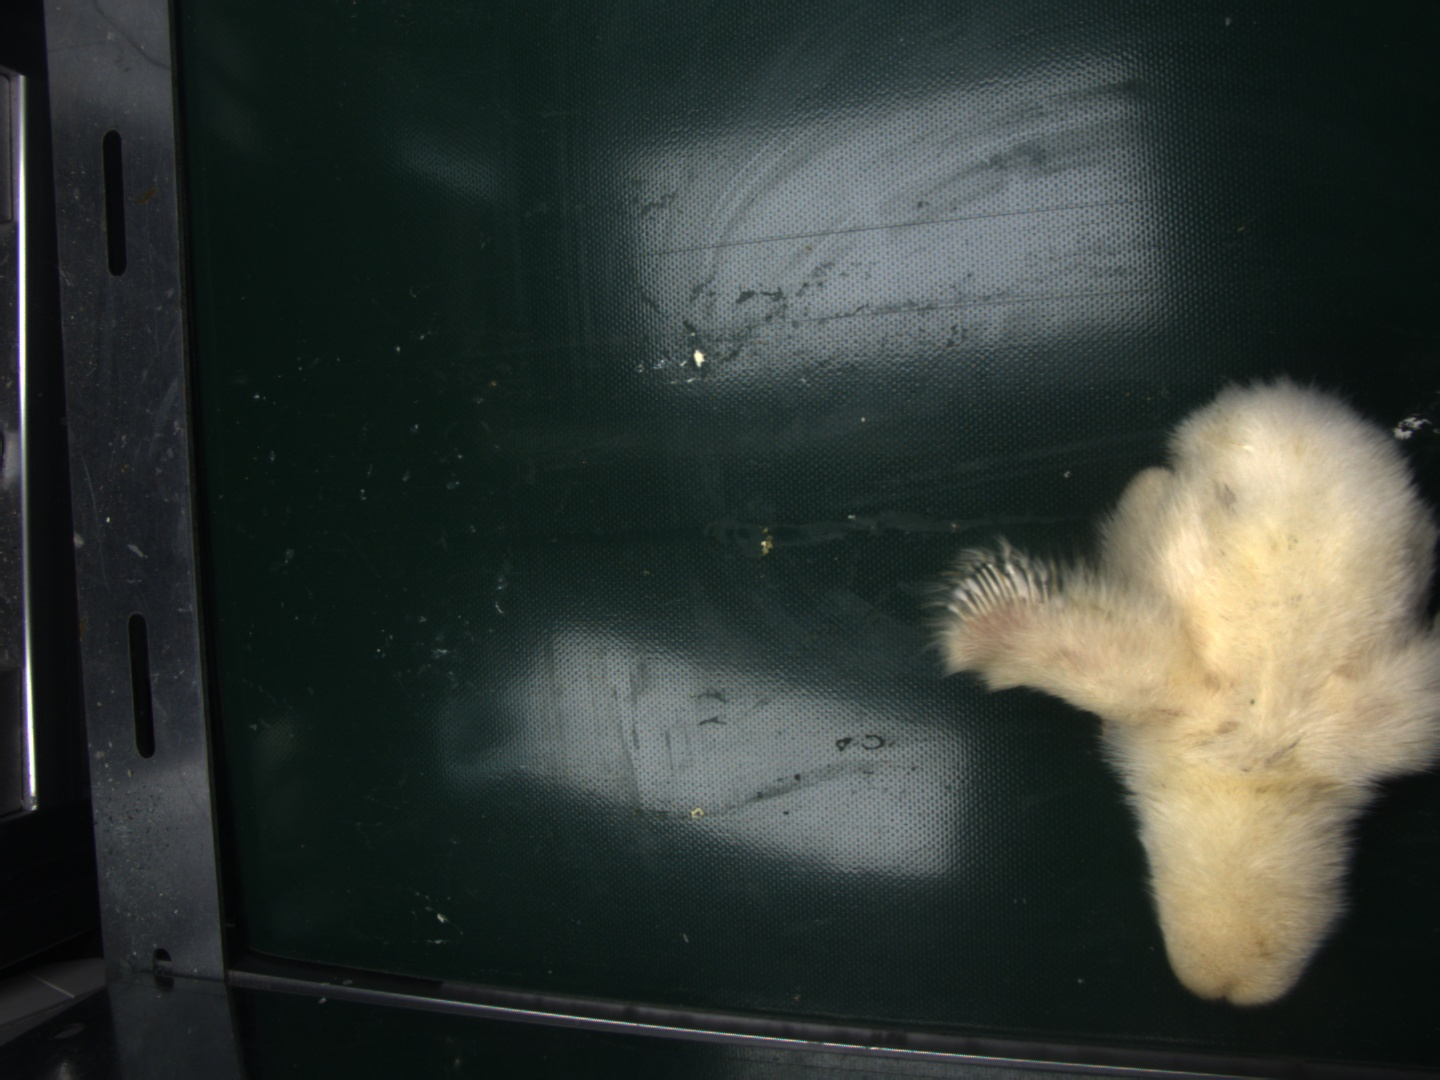male: (950, 558, 1047, 633)
